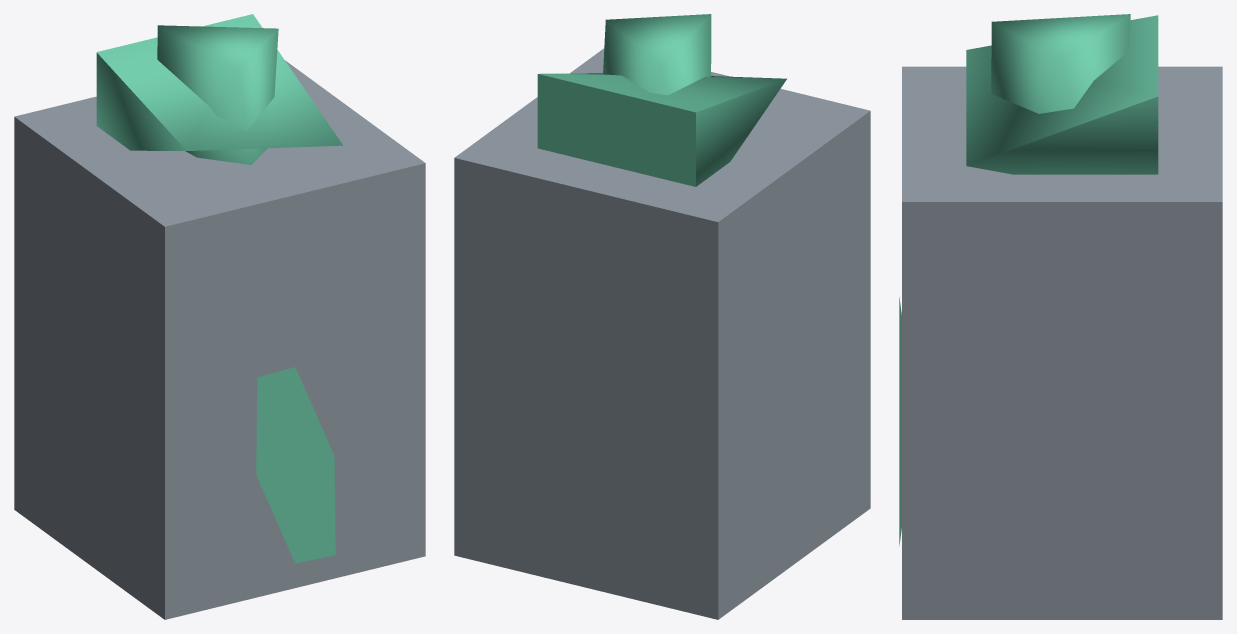
File: CO_Radar_LOD2.glb
3 views of the same model, side by side, from view 1: azimuth 30°, elevation 25°; view 2: azimuth 150°, elevation 25°; view 3: azimuth 270°, elevation 25° (orthographic). The views are drawn at different scales.
Visible parts, largest first — view 1: EntranceGate; view 2: EntranceGate; view 3: EntranceGate.
Part boxes in pixels (left/top/right/bottom): EntranceGate: left=14, top=14, right=425, bottom=619; EntranceGate: left=454, top=14, right=870, bottom=619; EntranceGate: left=899, top=14, right=1222, bottom=619.
Bounding box in the file's own units: 400 × 720 × 403.
